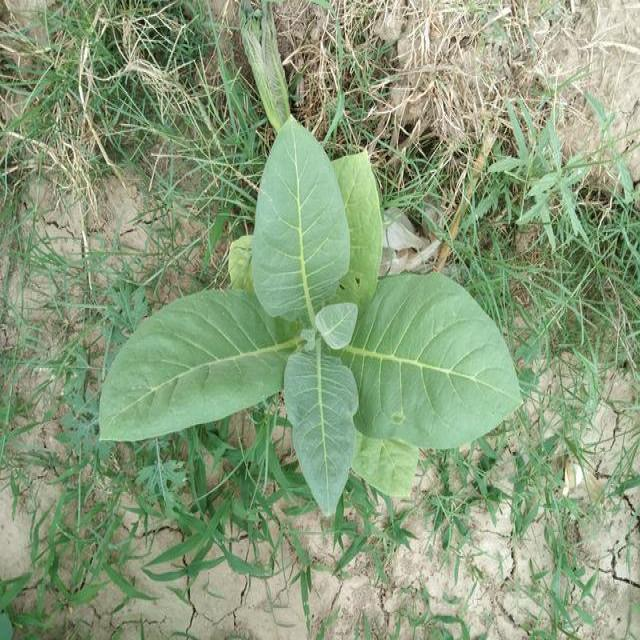crop: (98, 104, 530, 522)
